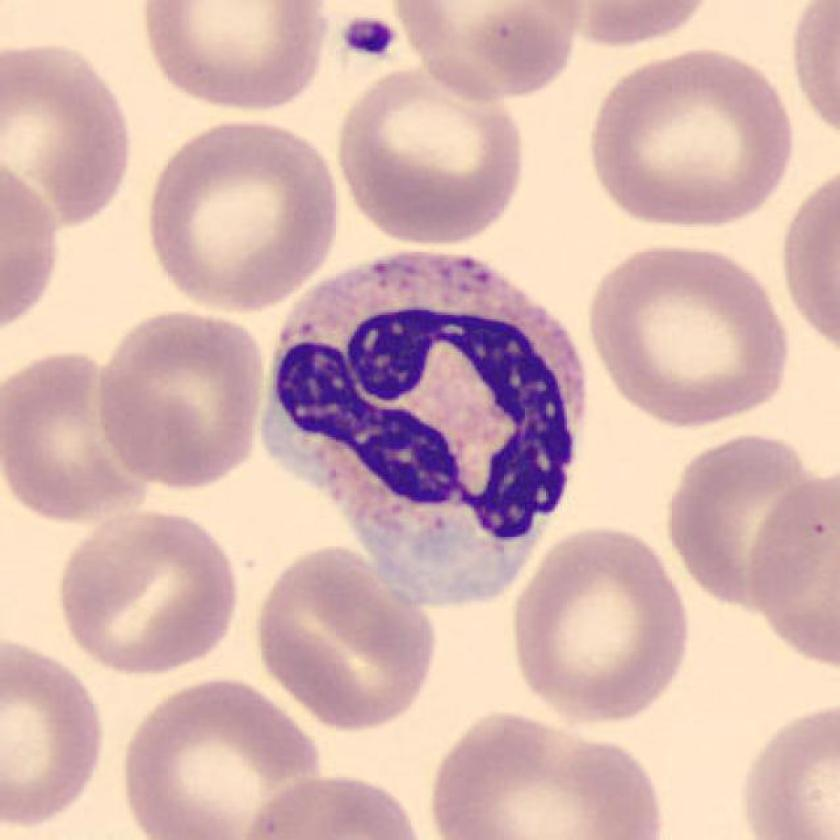neutrophil: (262, 250, 589, 609)
